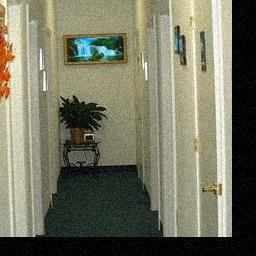Puerta: (192, 0, 223, 233)
